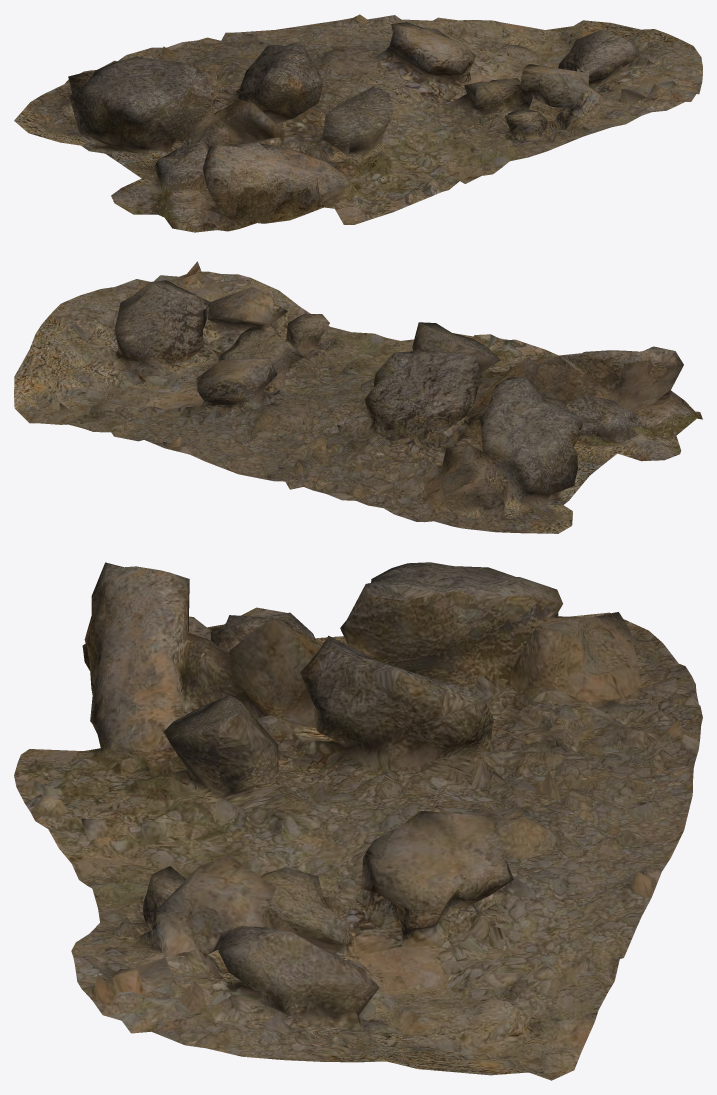
The picture shows the model from 3 angles, top to bottom: view 1: azimuth 30°, elevation 25°; view 2: azimuth 150°, elevation 25°; view 3: azimuth 270°, elevation 25°; orthographic projection. The views are drawn at different scales.
Visible parts, largest first — view 1: coast_land_rocks_03; view 2: coast_land_rocks_03; view 3: coast_land_rocks_03.
Boxes of the visible parts, x1,y1,x2,y2 form: coast_land_rocks_03: [14, 14, 702, 232]; coast_land_rocks_03: [14, 261, 702, 533]; coast_land_rocks_03: [14, 562, 702, 1080].
Bounding box in the file's own units: 8.98 × 1.49 × 5.62.
1 material, 1 textured.
